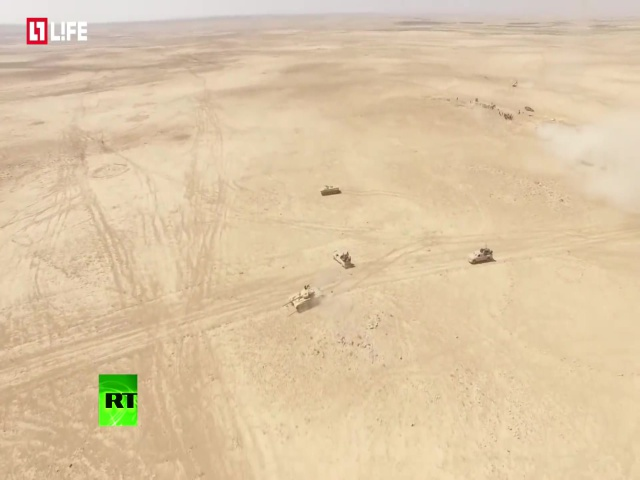vehicle: (285, 284, 325, 313), (465, 247, 495, 265), (333, 251, 355, 270), (320, 185, 340, 197)
